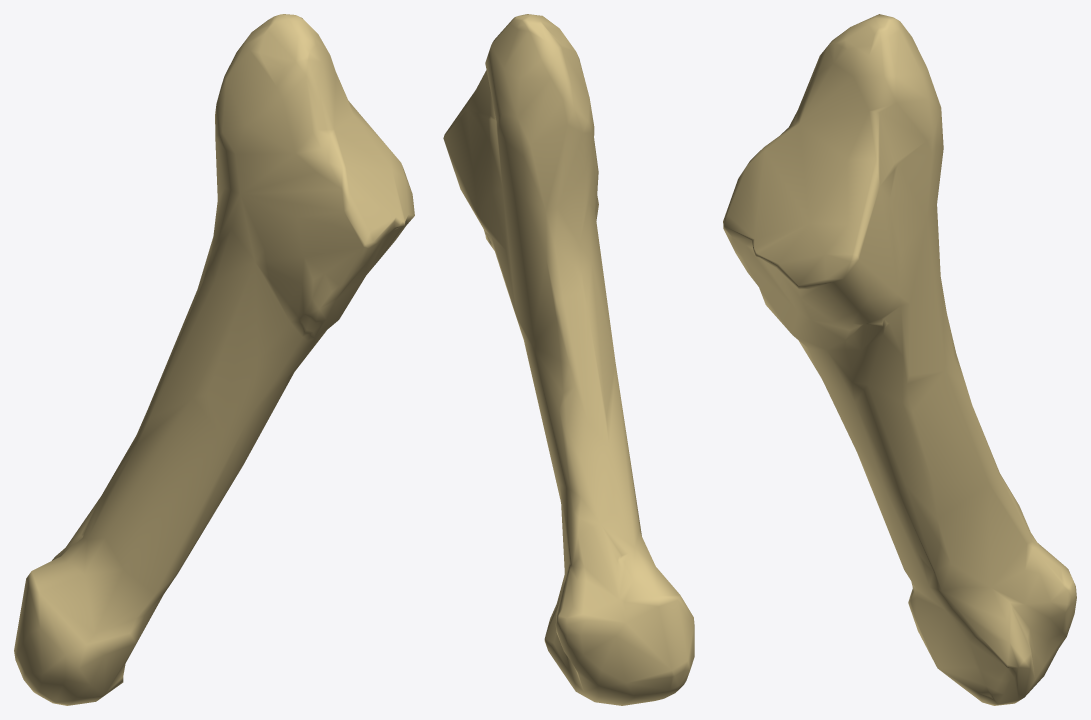
3 views of the same model, side by side, from view 1: azimuth 30°, elevation 25°; view 2: azimuth 150°, elevation 25°; view 3: azimuth 270°, elevation 25° (orthographic). The views are drawn at different scales.
Visible parts, largest first — view 1: 右侧第五跖骨; view 2: 右侧第五跖骨; view 3: 右侧第五跖骨.
Boxes of the visible parts, x1,y1,x2,y2 form: 右侧第五跖骨: (14, 14, 414, 705); 右侧第五跖骨: (443, 14, 694, 705); 右侧第五跖骨: (723, 14, 1076, 705).
Bounding box in the file's own units: 0.0546 × 0.1086 × 0.0459.
